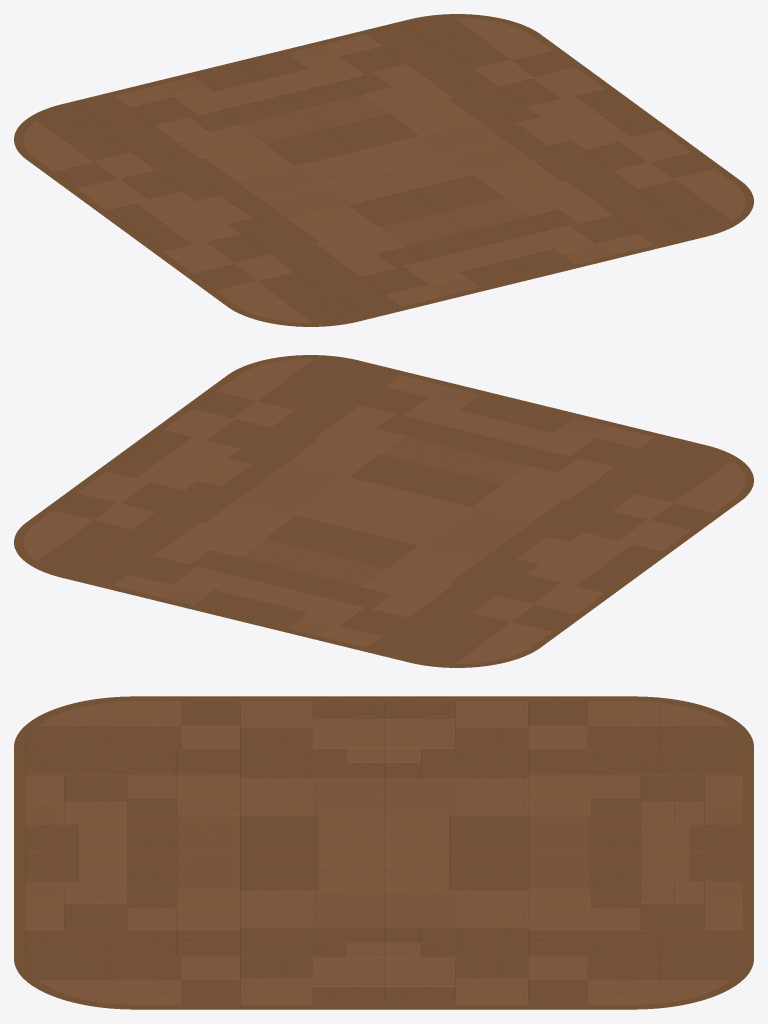
The model's file is Wood_Floor_Variant_07.glb.
3 renders of one model, top to bottom at view 1: azimuth 30°, elevation 25°; view 2: azimuth 150°, elevation 25°; view 3: azimuth 270°, elevation 25°, orthographic. The views are drawn at different scales.
Visible parts, largest first — view 1: Wood_Floor_Variant_07; view 2: Wood_Floor_Variant_07; view 3: Wood_Floor_Variant_07.
Boxes of the visible parts, x1,y1,x2,y2 form: Wood_Floor_Variant_07: (14, 14, 753, 326); Wood_Floor_Variant_07: (14, 355, 753, 667); Wood_Floor_Variant_07: (14, 696, 753, 1009).
Bounding box in the file's own units: 18.95 × 0.0085 × 18.95.
